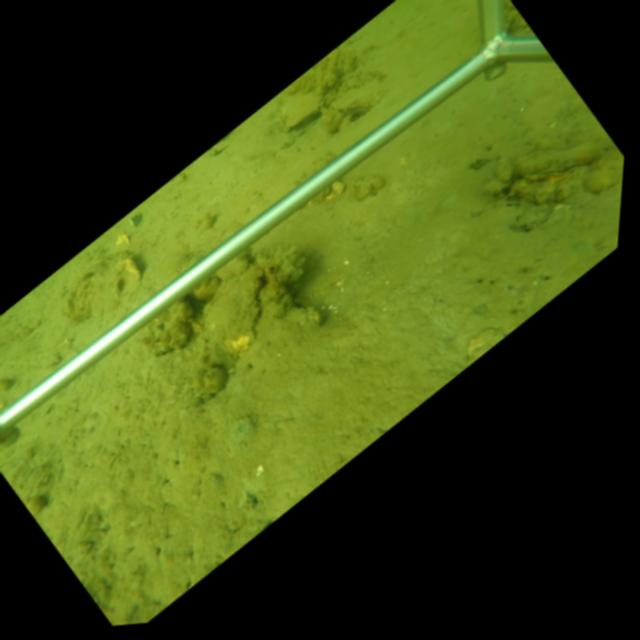Oyster-Closed: (509, 138, 604, 183), (280, 90, 328, 135), (331, 88, 383, 115)
Oyster-Indeterminate: (202, 262, 268, 359)
